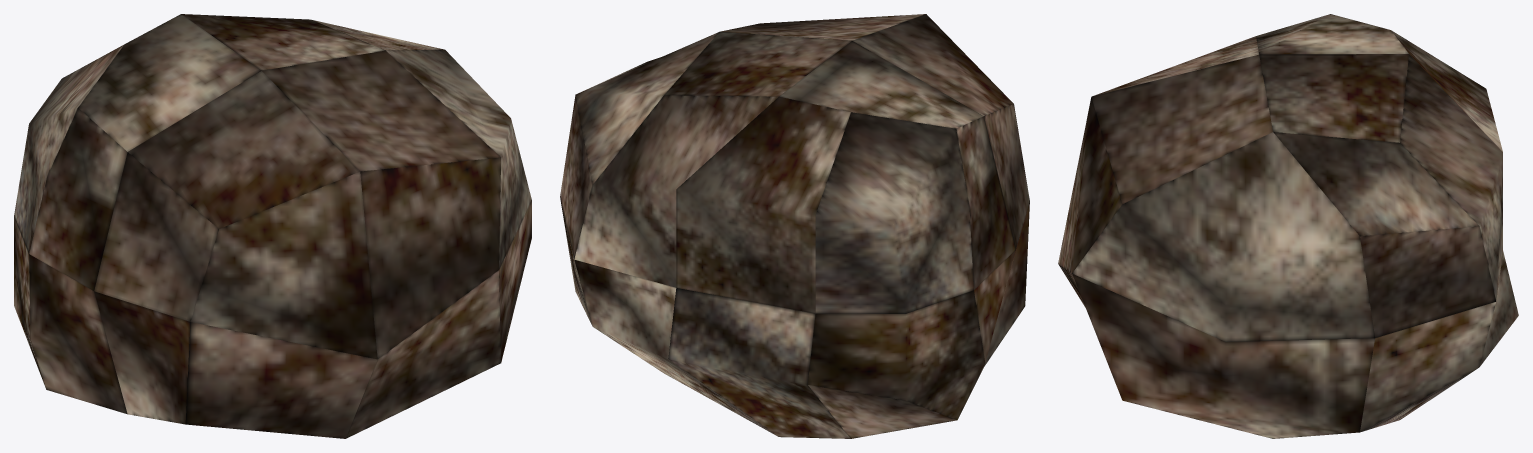
The model's file is Roche01-1.fbx.
The picture shows the model from 3 angles, left to right: view 1: azimuth 30°, elevation 25°; view 2: azimuth 150°, elevation 25°; view 3: azimuth 270°, elevation 25°; orthographic projection. The views are drawn at different scales.
Visible parts, largest first — view 1: polySurface48, polySurface39, polySurface32, polySurface46, polySurface34, polySurface33, polySurface44, polySurface47, polySurface41, polySurface45, polySurface36, polySurface43; view 2: polySurface41, polySurface42, polySurface36, polySurface40, polySurface37, polySurface46, polySurface48, polySurface43, polySurface47, polySurface35, polySurface39, polySurface32 (+2 smaller); view 3: polySurface44, polySurface45, polySurface43, polySurface39, polySurface47, polySurface40, polySurface38, polySurface46, polySurface42, polySurface48, polySurface35.
Boxes of the visible parts, x1,y1,x2,y2 form: polySurface48: (94, 71, 377, 359); polySurface39: (262, 50, 500, 358); polySurface32: (94, 291, 377, 438); polySurface46: (29, 14, 261, 290); polySurface34: (346, 270, 500, 438); polySurface33: (29, 254, 127, 414); polySurface44: (386, 49, 531, 269); polySurface47: (181, 14, 384, 70); polySurface41: (14, 44, 124, 253); polySurface45: (499, 200, 531, 362); polySurface36: (14, 216, 45, 387); polySurface43: (312, 20, 443, 50); polySurface41: (815, 112, 973, 313); polySurface42: (676, 96, 850, 313); polySurface36: (807, 290, 985, 438); polySurface40: (574, 95, 778, 287); polySurface37: (668, 288, 850, 438); polySurface46: (779, 41, 1015, 289); polySurface48: (852, 14, 1029, 248); polySurface43: (560, 32, 718, 258); polySurface47: (664, 31, 851, 96); polySurface35: (574, 259, 777, 436); polySurface39: (721, 14, 925, 40); polySurface32: (984, 202, 1029, 366); polySurface44: (1072, 132, 1374, 341); polySurface45: (1072, 274, 1374, 438); polySurface43: (1273, 132, 1495, 337); polySurface39: (1058, 54, 1272, 273); polySurface47: (1259, 54, 1408, 142); polySurface40: (1400, 54, 1502, 300); polySurface38: (1360, 302, 1495, 432); polySurface46: (1256, 14, 1408, 54); polySurface42: (1391, 30, 1502, 151); polySurface48: (1094, 36, 1258, 95); polySurface35: (1479, 251, 1518, 366).
Bounding box in the file's own units: 0.9815 × 0.9383 × 0.7632.
Materials: 1 (1 with a texture image).
